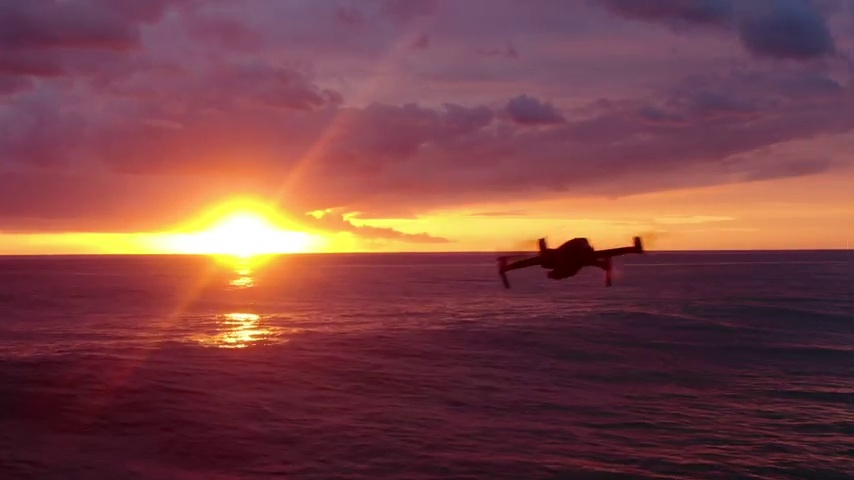drone: (495, 232, 643, 290)
